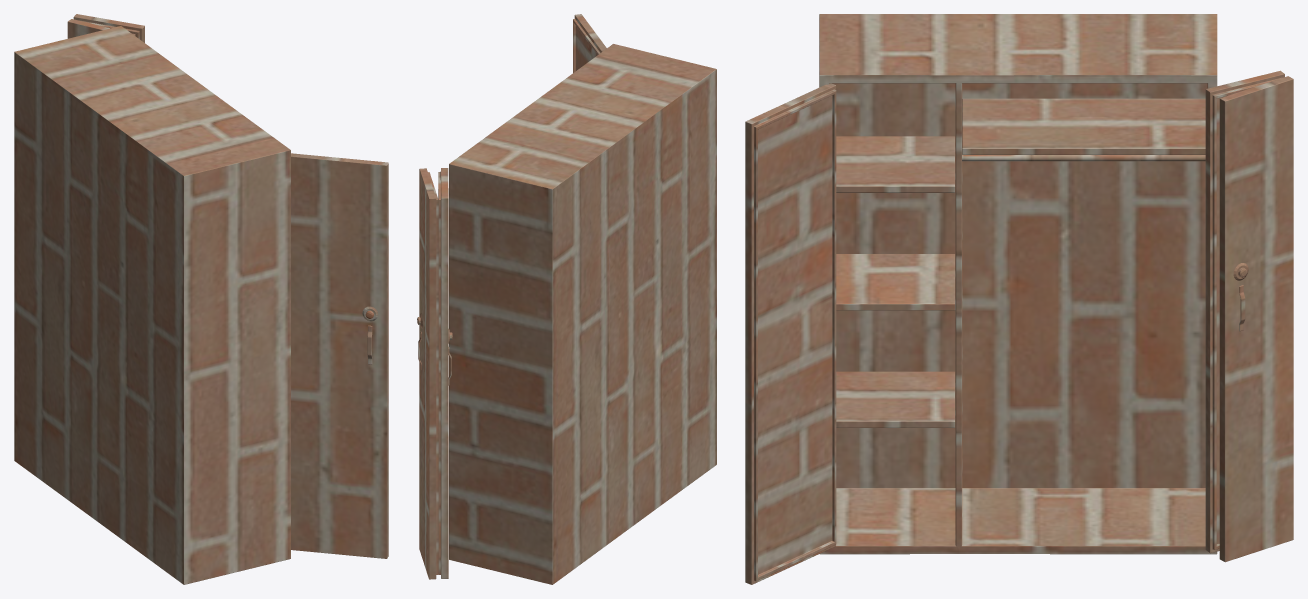
Rendered from locker.fbx.
The picture shows the model from 3 angles, left to right: view 1: azimuth 30°, elevation 25°; view 2: azimuth 150°, elevation 25°; view 3: azimuth 270°, elevation 25°; orthographic projection. The views are drawn at different scales.
Visible parts, largest first — view 1: Box001, Object002, Object003, Object001; view 2: Box001, Object003, Object001, Object002; view 3: Box001, Object002, Object003, Object001.
Boxes of the visible parts, x1=… form: Box001: x1=14, y1=26, x2=290, y2=584; Object002: x1=291, y1=153, x2=388, y2=558; Object003: x1=73, y1=14, x2=144, y2=42; Object001: x1=67, y1=19, x2=135, y2=38; Box001: x1=449, y1=44, x2=716, y2=584; Object003: x1=417, y1=168, x2=438, y2=579; Object001: x1=438, y1=168, x2=452, y2=578; Object002: x1=573, y1=14, x2=606, y2=72; Box001: x1=819, y1=14, x2=1217, y2=554; Object002: x1=745, y1=83, x2=836, y2=584; Object003: x1=1219, y1=76, x2=1293, y2=562; Object001: x1=1205, y1=70, x2=1284, y2=553.
Size of the model in its own units: 90.02 by 200 by 207.
